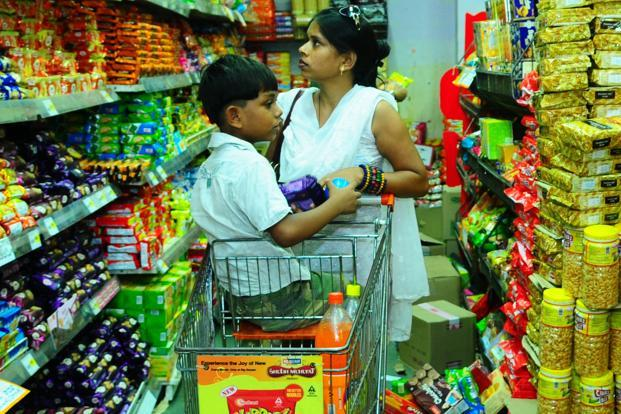Emotion_Neutral: (209, 67, 306, 144), (284, 15, 359, 85)
